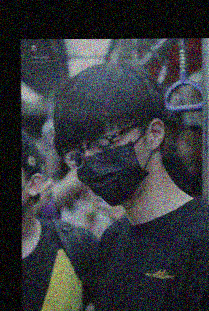with_mask: (67, 121, 153, 208)
